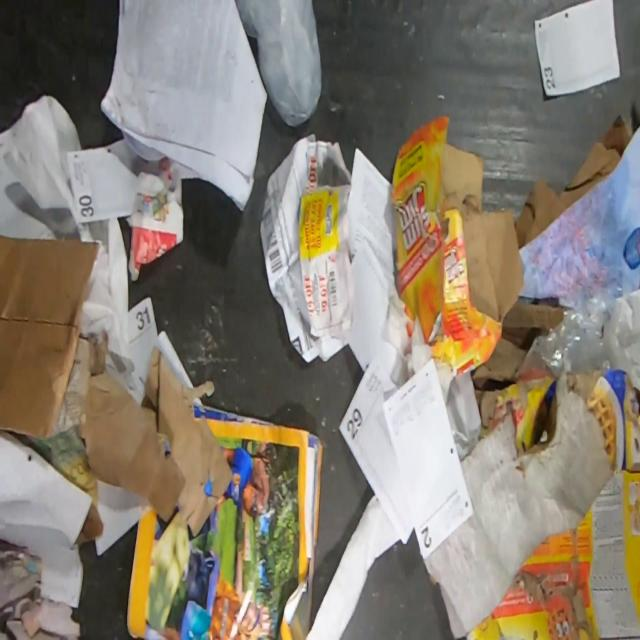cardboard: (423, 368, 640, 640), (443, 113, 633, 323), (390, 113, 501, 375), (0, 234, 100, 441), (473, 296, 564, 387)
soft_plastic: (518, 287, 640, 402), (233, 0, 322, 127)
